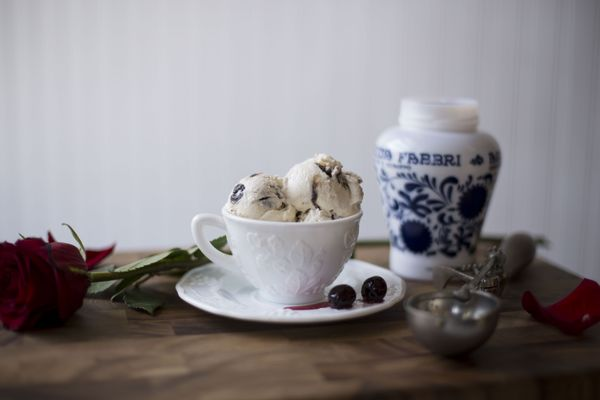pizza: (190, 205, 363, 306)
sushi: (403, 288, 502, 357)
